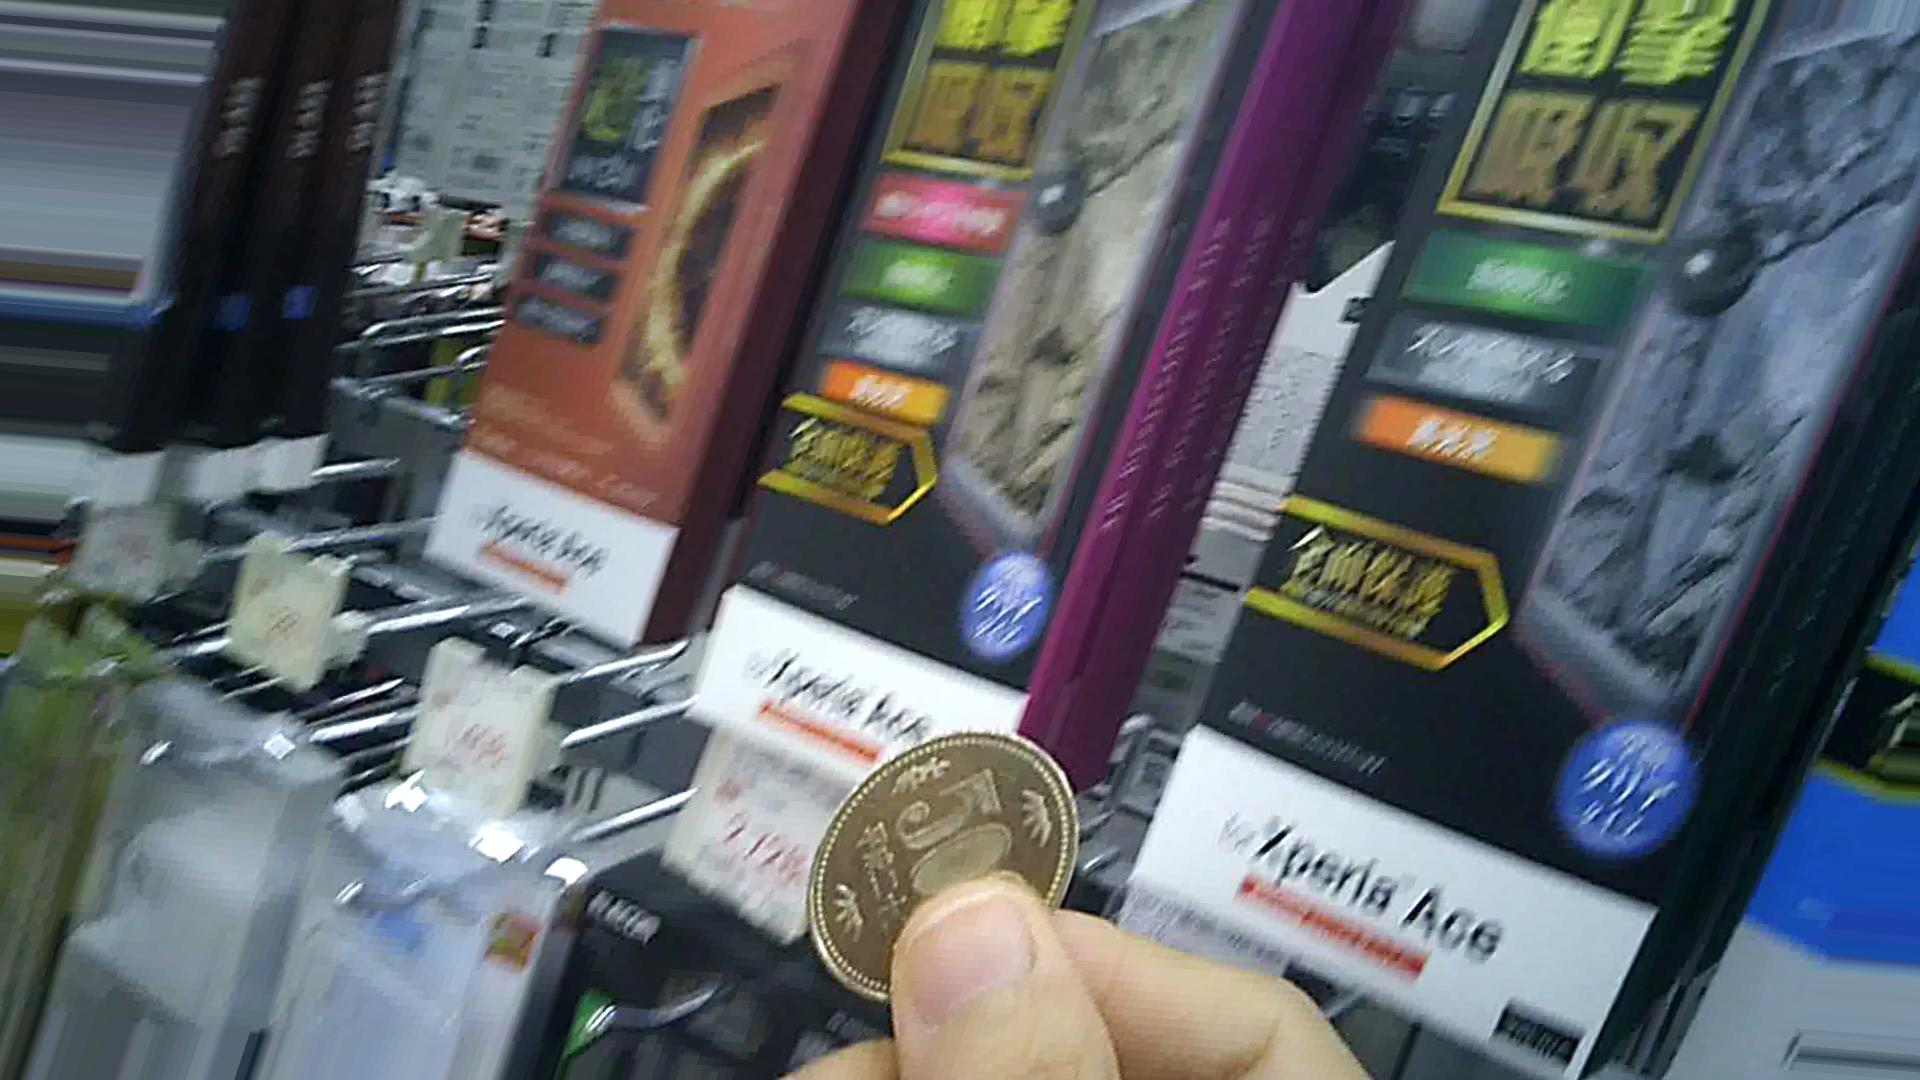500 Yen: (812, 723, 1093, 997)
